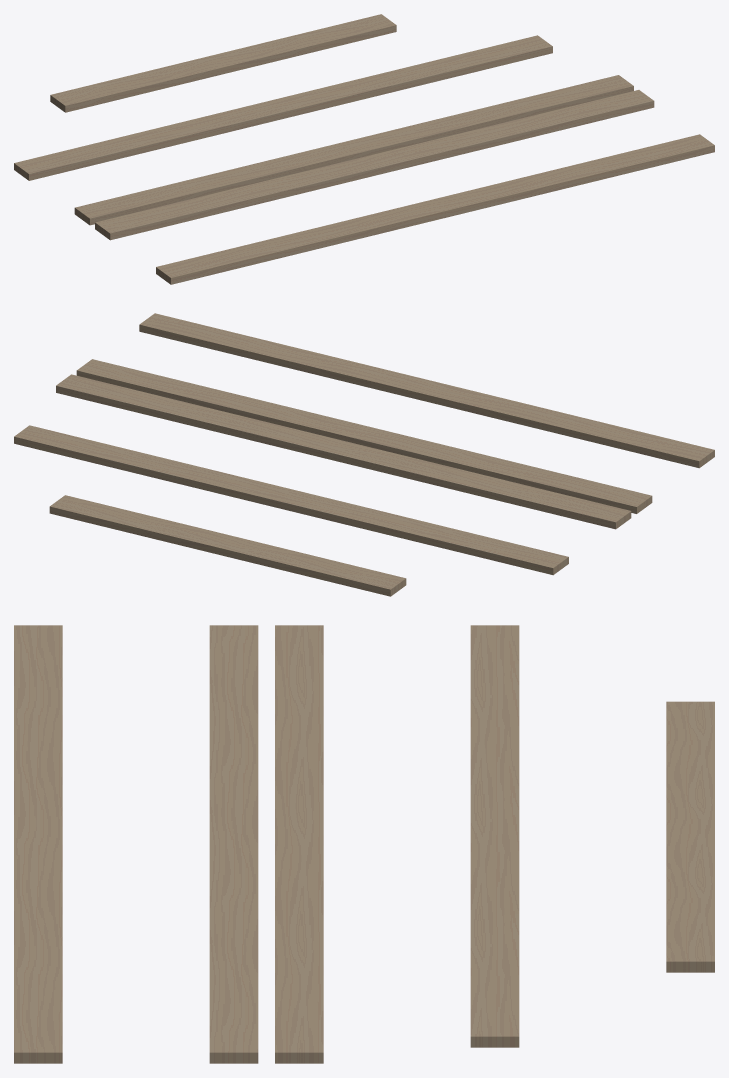
The model's file is kd_stage_135d18_3_9.glb.
3 renders of one model, top to bottom at view 1: azimuth 30°, elevation 25°; view 2: azimuth 150°, elevation 25°; view 3: azimuth 270°, elevation 25°, orthographic. The views are drawn at different scales.
Visible parts, largest first — view 1: kd_stage_135d18_3_9; view 2: kd_stage_135d18_3_9; view 3: kd_stage_135d18_3_9.
Boxes of the visible parts, <box> form: kd_stage_135d18_3_9: <box>14,14,714,284</box>; kd_stage_135d18_3_9: <box>14,313,714,596</box>; kd_stage_135d18_3_9: <box>14,625,714,1063</box>.
Bounding box in the file's own units: 4.16 × 0.05 × 2.89.
1 material, 1 textured.
